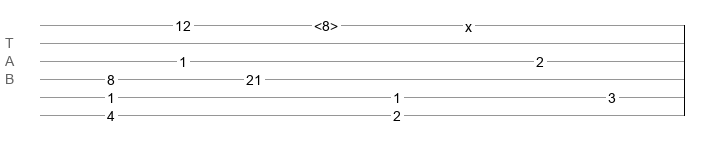1: (107, 90, 115, 100), (179, 54, 187, 64), (393, 90, 401, 100)
12: (175, 18, 191, 28)
2: (393, 108, 401, 118), (536, 54, 544, 64)
21: (246, 72, 262, 82)
3: (608, 90, 616, 100)
4: (107, 108, 115, 118)
8: (107, 72, 115, 82)
harmonic: (314, 18, 338, 28)
x: (465, 19, 472, 27)
